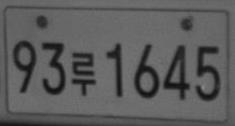1: (103, 43, 132, 96)
3: (41, 42, 66, 94)
4: (162, 44, 190, 101)
5: (195, 46, 221, 101)
6: (133, 43, 160, 99)
9: (12, 39, 37, 93)
루: (70, 51, 96, 96)
